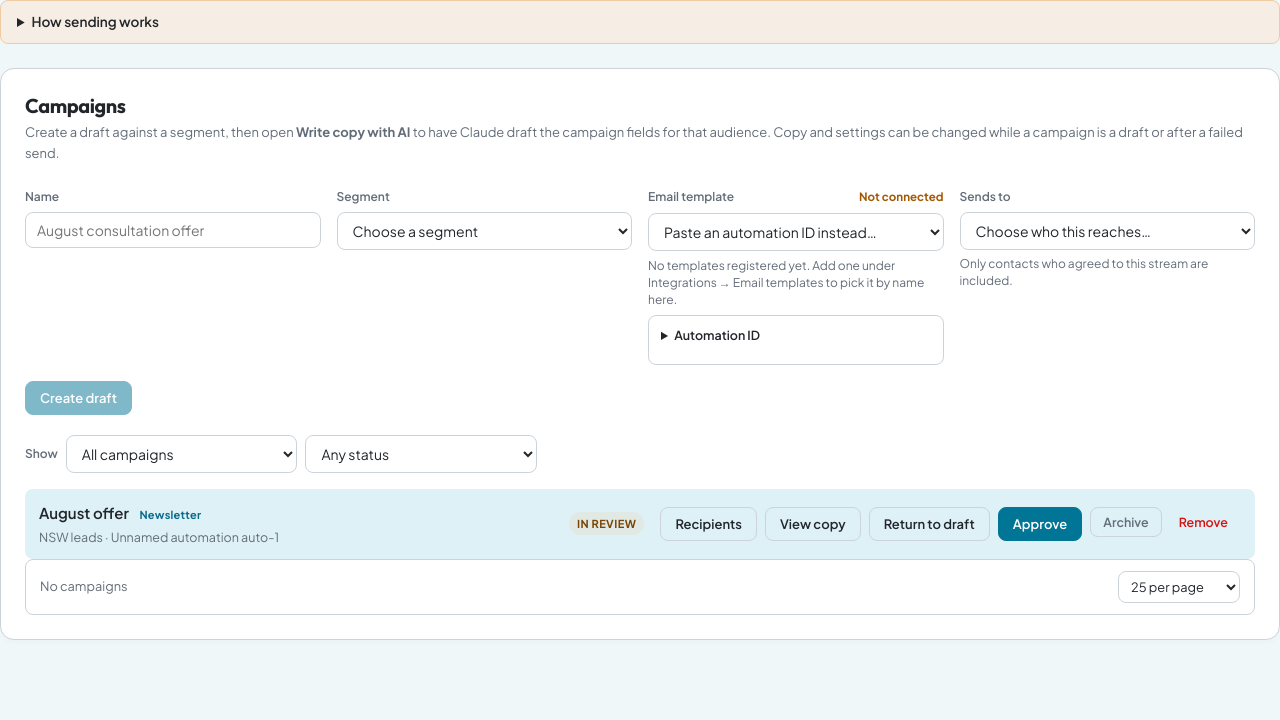
Test: MarketingView › surfaces a refused approval instead of failing silently
Click the button with test id "approve-camp-1" at x=1040, y=524, box [998, 507, 1082, 541]
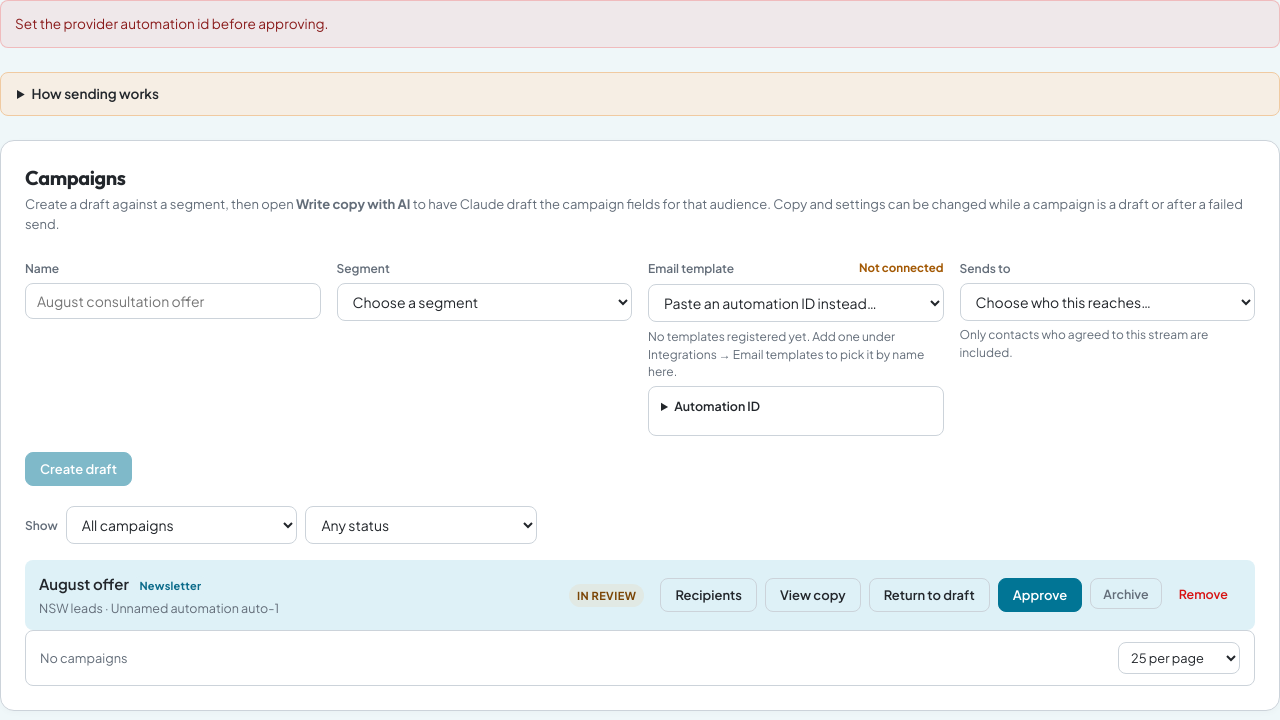
Expected: the text "Set the provider automation id before approving." is shown, [0, 0, 1279, 48]
